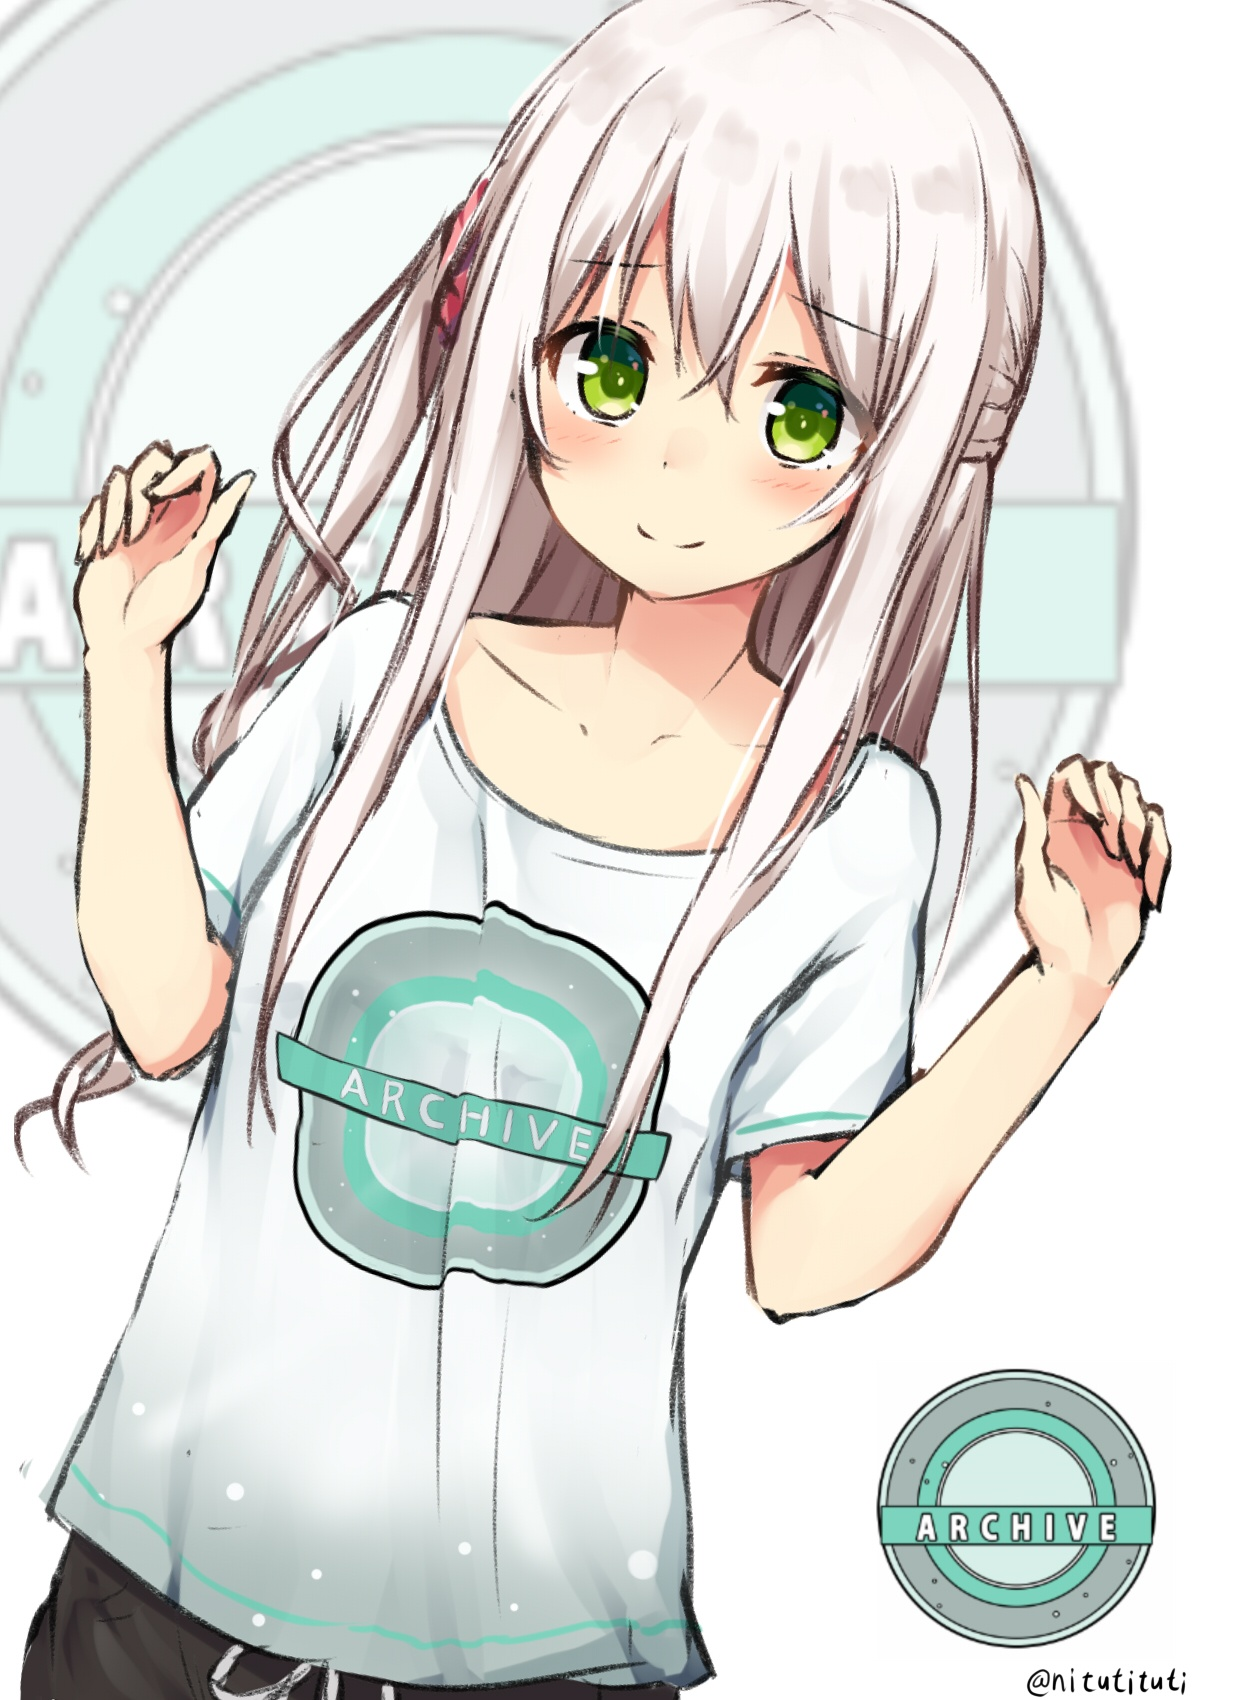纸片人正脸: (383, 0, 1078, 621)
